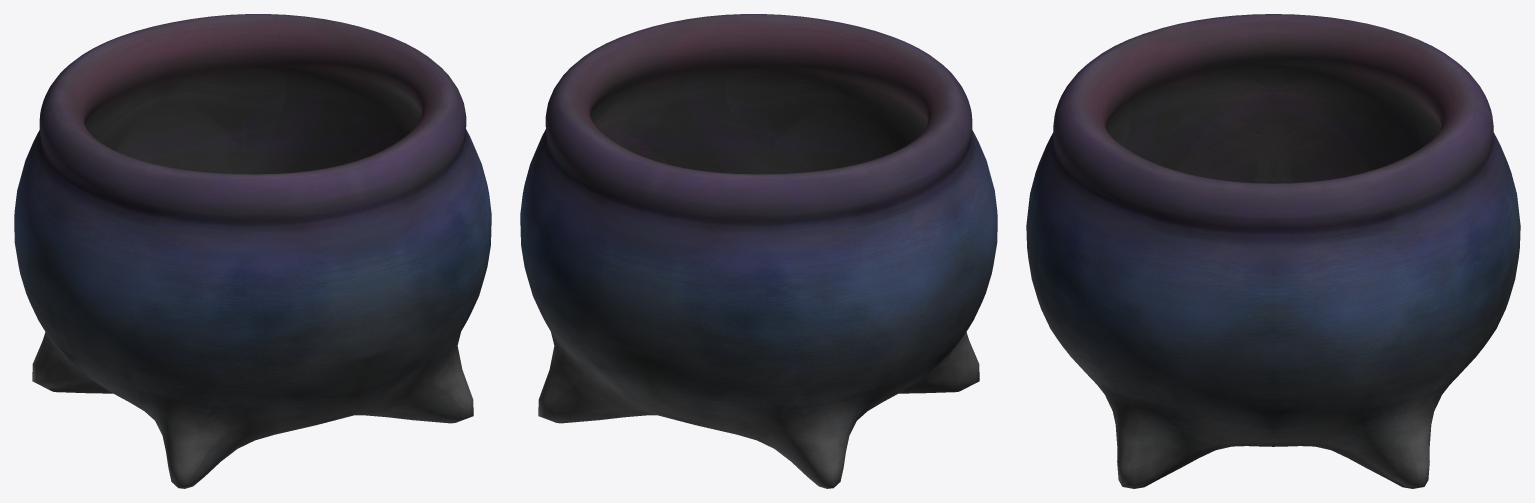
Rendered from Cauldron_003.fbx.
3 views of the same model, side by side, from view 1: azimuth 30°, elevation 25°; view 2: azimuth 150°, elevation 25°; view 3: azimuth 270°, elevation 25° (orthographic). The views are drawn at different scales.
Parts seen in each view (by area): view 1: Cauldron.003; view 2: Cauldron.003; view 3: Cauldron.003.
Part boxes in pixels (bbox=[...]): Cauldron.003: bbox=[14, 14, 491, 488]; Cauldron.003: bbox=[520, 14, 997, 488]; Cauldron.003: bbox=[1026, 14, 1520, 488].
Bounding box in the file's own units: 115 × 83.2 × 115.
